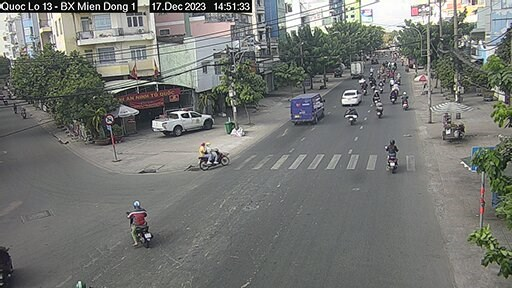car: (147, 106, 211, 134), (288, 82, 318, 130), (340, 82, 363, 108)
motorbike: (118, 192, 150, 247), (188, 132, 222, 172), (379, 135, 399, 172), (345, 108, 357, 127)
